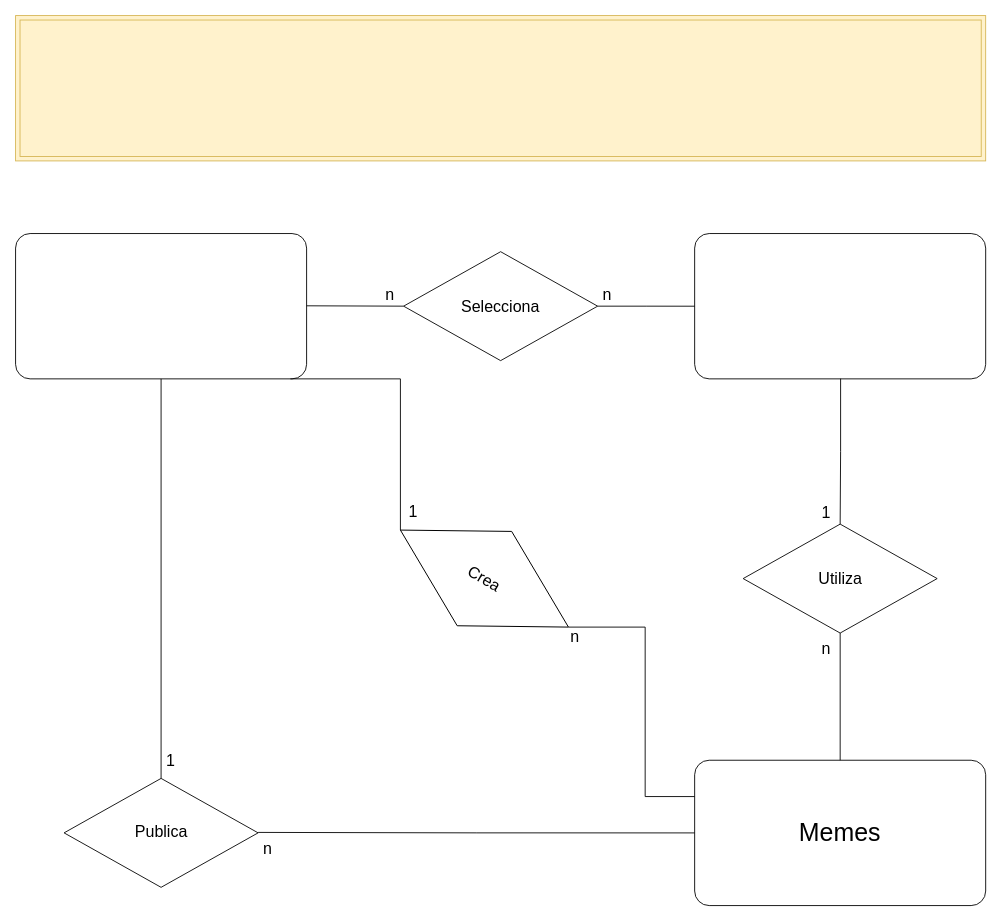
This 1001x921 diagram has some shape labels left out. The centre of each missing label's shape, as x and y in pixels:
"MEMIGOS - Diseño Roberto Martinez" belongs at pixel 500 88.
"Plantillas" belongs at pixel 840 306.
"Usuarios" belongs at pixel 161 306.
